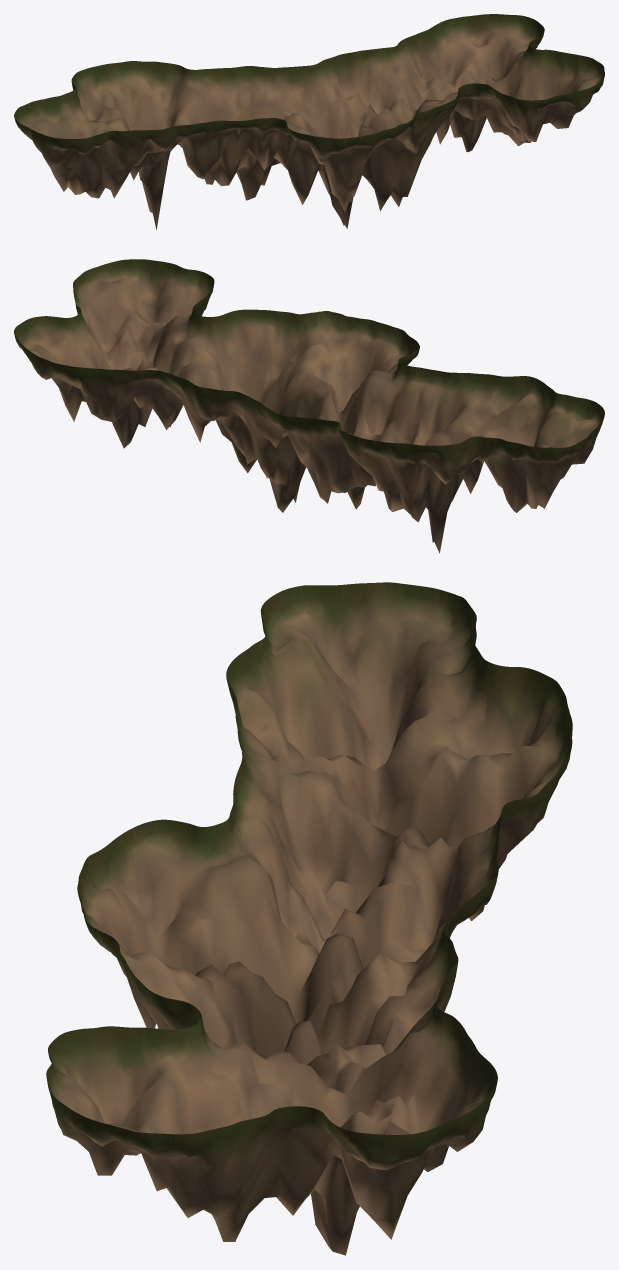
File: SM_H16_IslandRock.fbx
3 renders of one model, top to bottom at view 1: azimuth 30°, elevation 25°; view 2: azimuth 150°, elevation 25°; view 3: azimuth 270°, elevation 25°, orthographic. The views are drawn at different scales.
Visible parts, largest first — view 1: SM_H16_IslandRock; view 2: SM_H16_IslandRock; view 3: SM_H16_IslandRock.
Boxes of the visible parts, x1,y1,x2,y2 form: SM_H16_IslandRock: [14, 14, 604, 230]; SM_H16_IslandRock: [14, 259, 604, 553]; SM_H16_IslandRock: [46, 582, 572, 1255].
Size of the model in its own units: 337 by 101 by 148.
